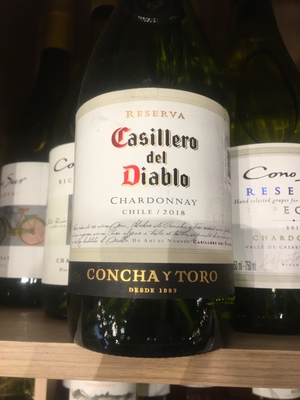casillero del diablo chardonnay: (74, 27, 236, 365)
